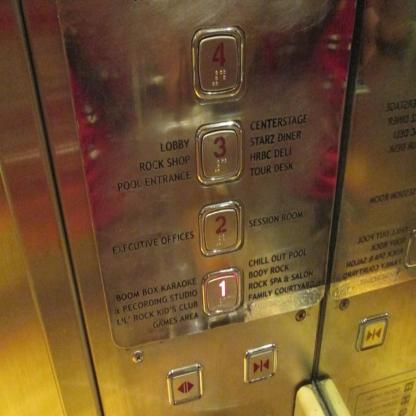1: (200, 264, 244, 318)
2: (195, 196, 246, 259)
3: (191, 118, 247, 188)
4: (188, 23, 248, 105)
close: (241, 340, 279, 386), (354, 308, 390, 356)
open: (164, 360, 204, 409)
